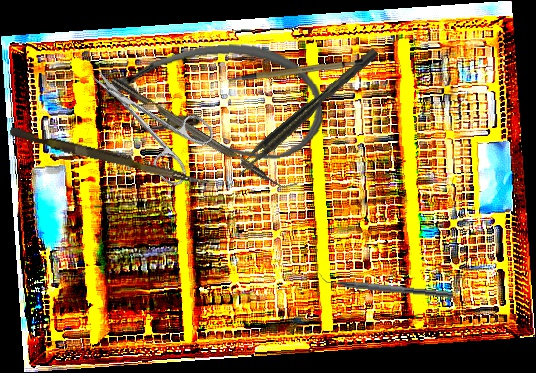Cannula: (103, 36, 326, 175)
Chopper: (110, 67, 298, 199), (315, 271, 455, 298)
Iris Scissors: (72, 44, 223, 191)
Pusher: (8, 127, 212, 187)
Scalpel Handle: (226, 54, 364, 85)
Tissue Forceps: (231, 47, 383, 178)
